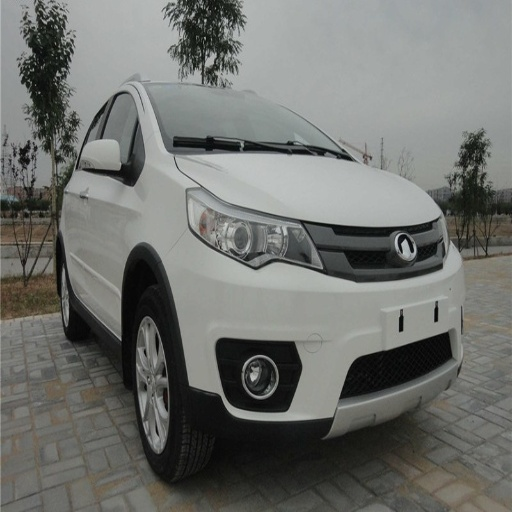front_bumper: (168, 221, 466, 435)
front_right_door: (87, 84, 143, 322)
front_right_light: (187, 189, 326, 271)
